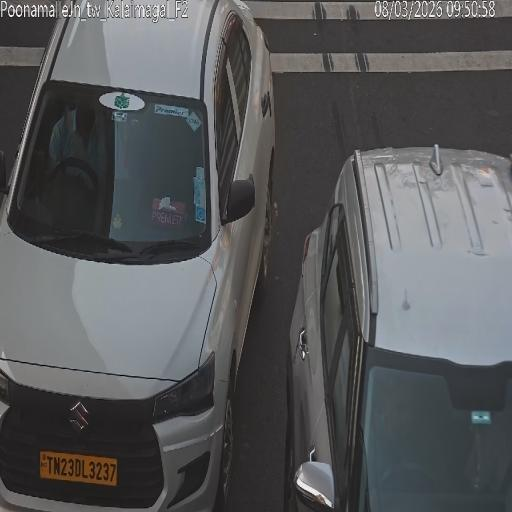person_with_seatbelt: (57, 90, 80, 160)
